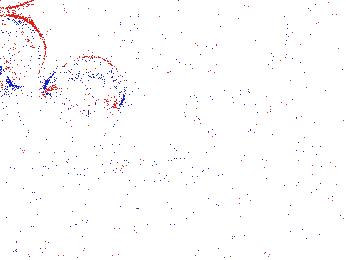moon jellyfish: (168, 2, 289, 76), (231, 16, 317, 107), (123, 13, 199, 102), (42, 55, 126, 112), (1, 12, 46, 88)
